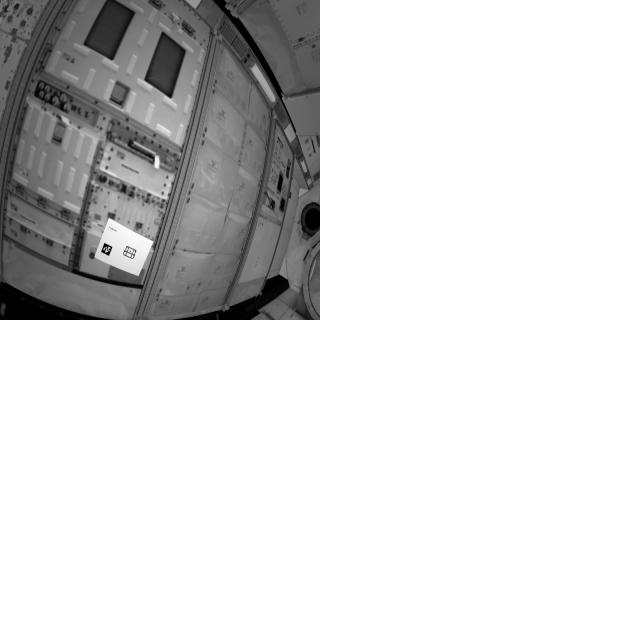treasure_box: (122, 244, 139, 263)
